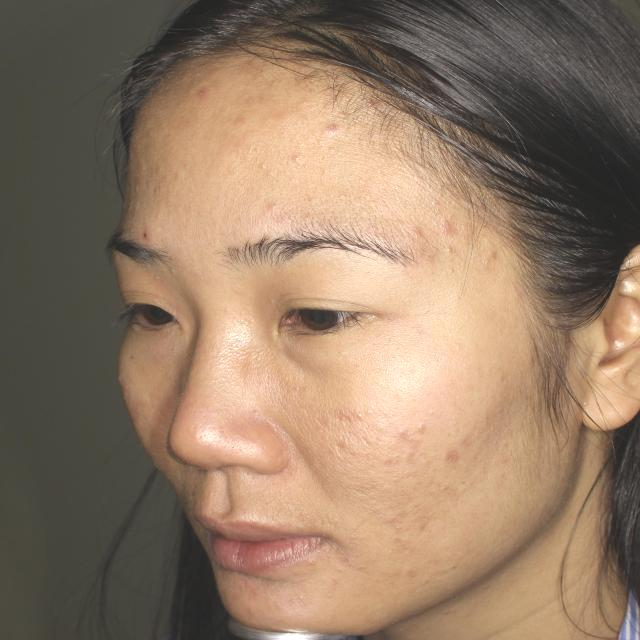acne: (402, 227, 437, 262), (478, 241, 509, 276), (399, 411, 426, 448), (442, 433, 473, 463), (324, 115, 349, 149), (438, 217, 464, 242)
